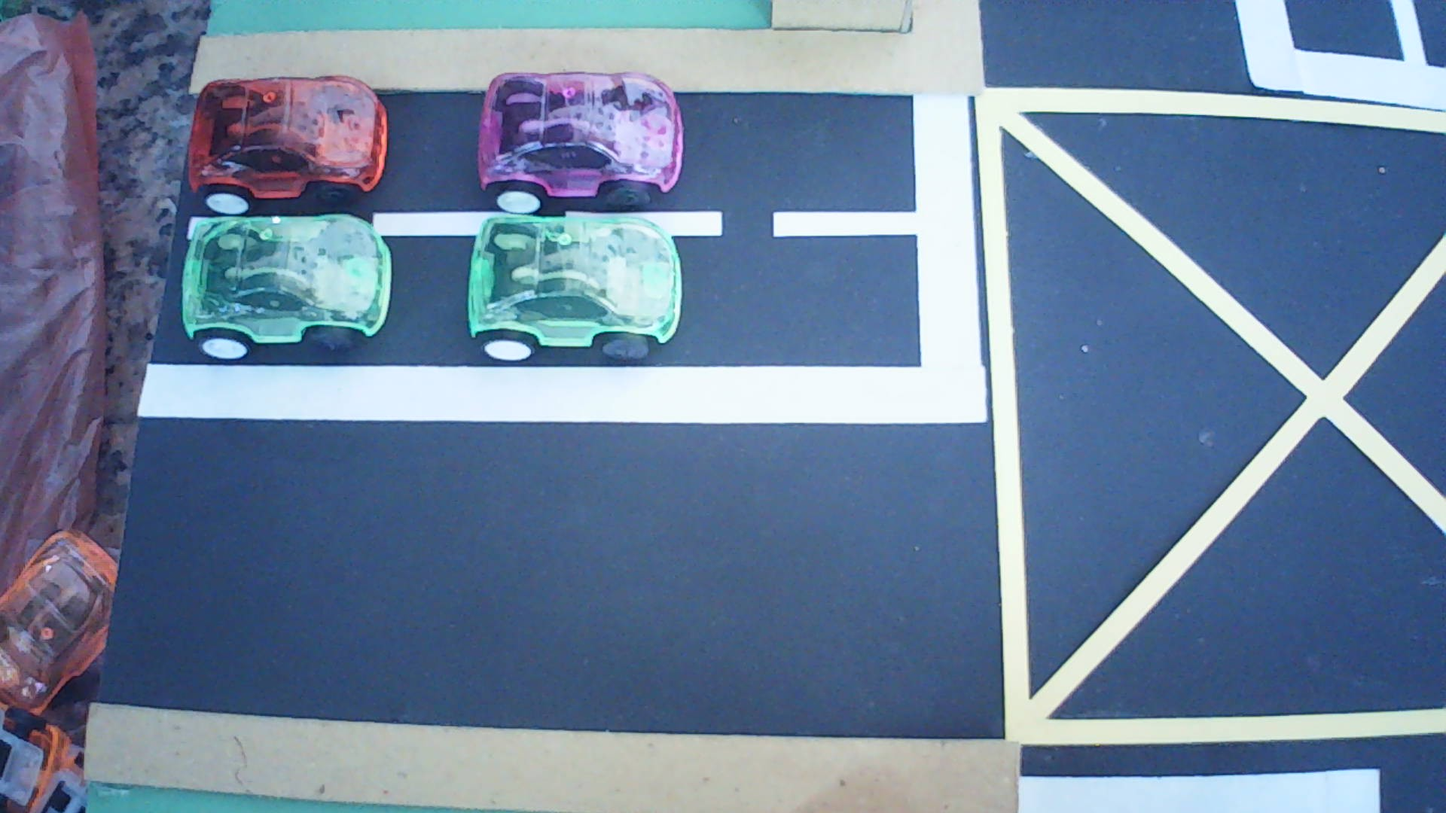Mobil hijau: (467, 214, 682, 362), (181, 215, 391, 361)
Mobil merah: (188, 76, 389, 214)
Mobil ungu: (477, 72, 683, 213)
